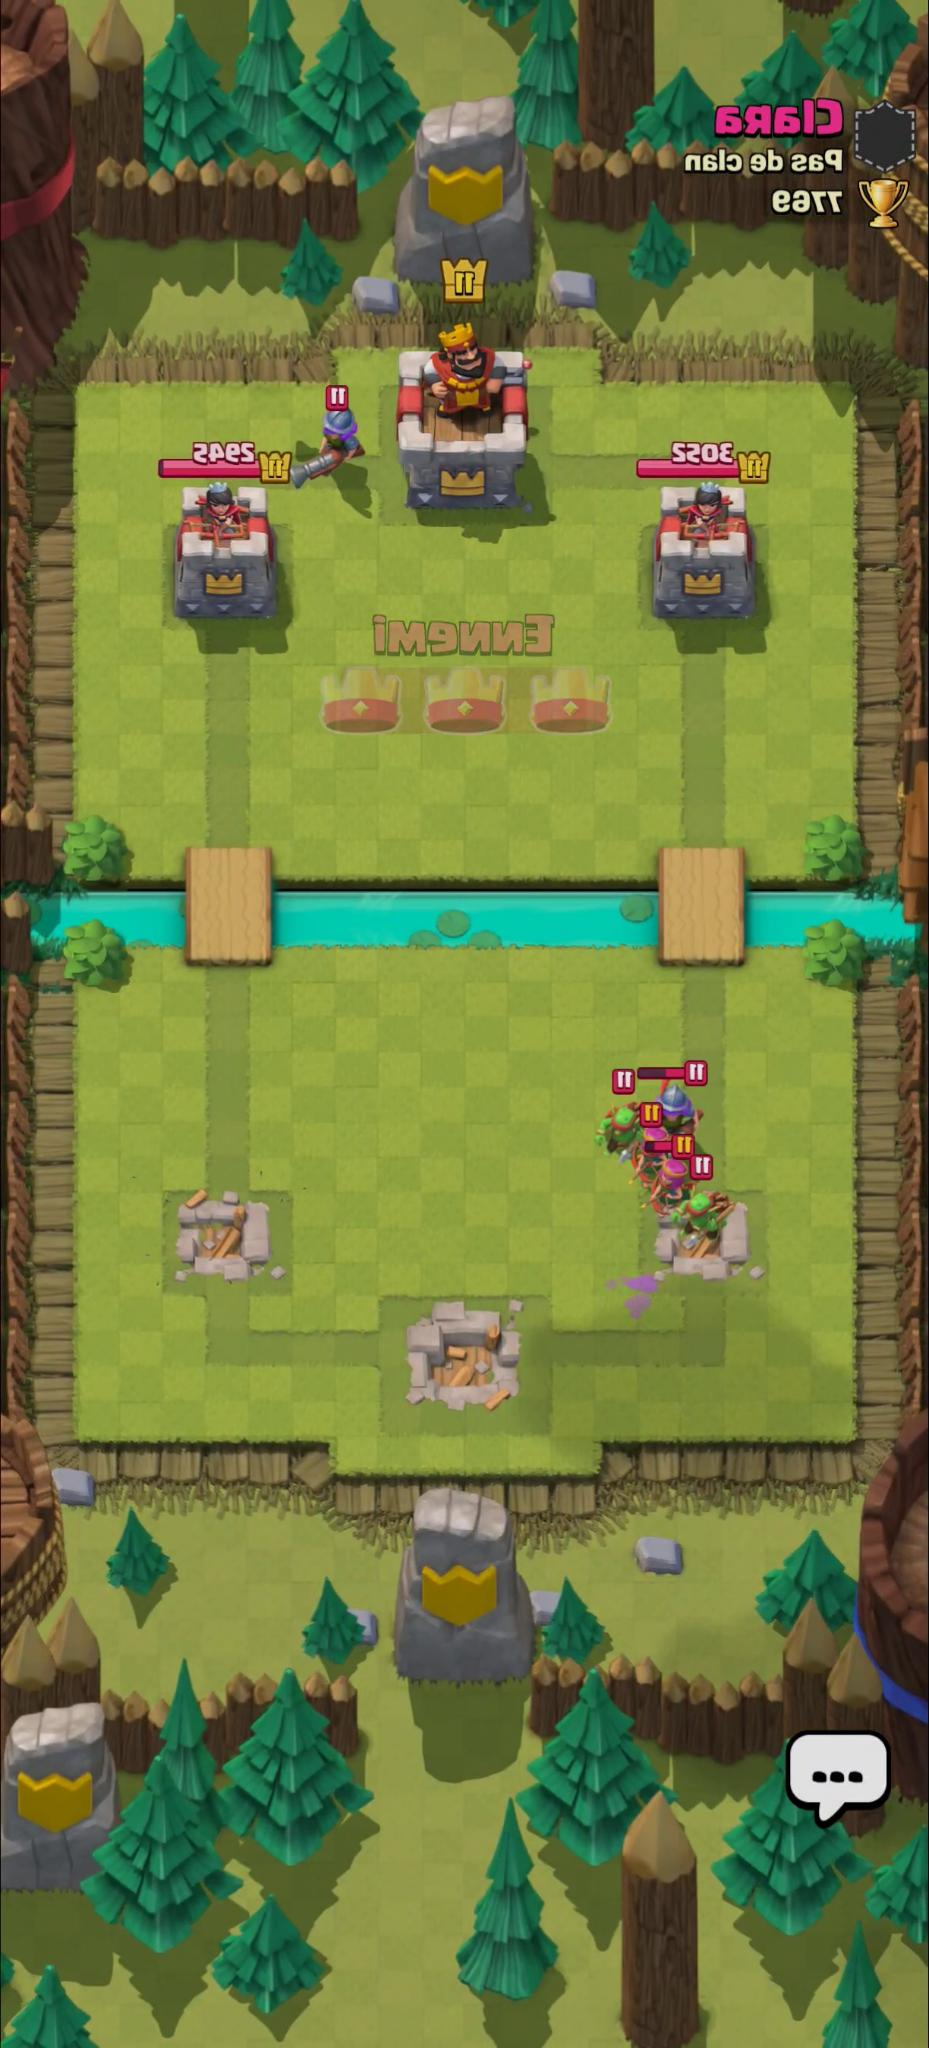archere: (638, 1155, 687, 1220), (627, 1125, 665, 1187)
gobelin_lances: (672, 1192, 733, 1259), (595, 1098, 644, 1165)
mousquetaire: (287, 405, 368, 491), (651, 1074, 703, 1139)
